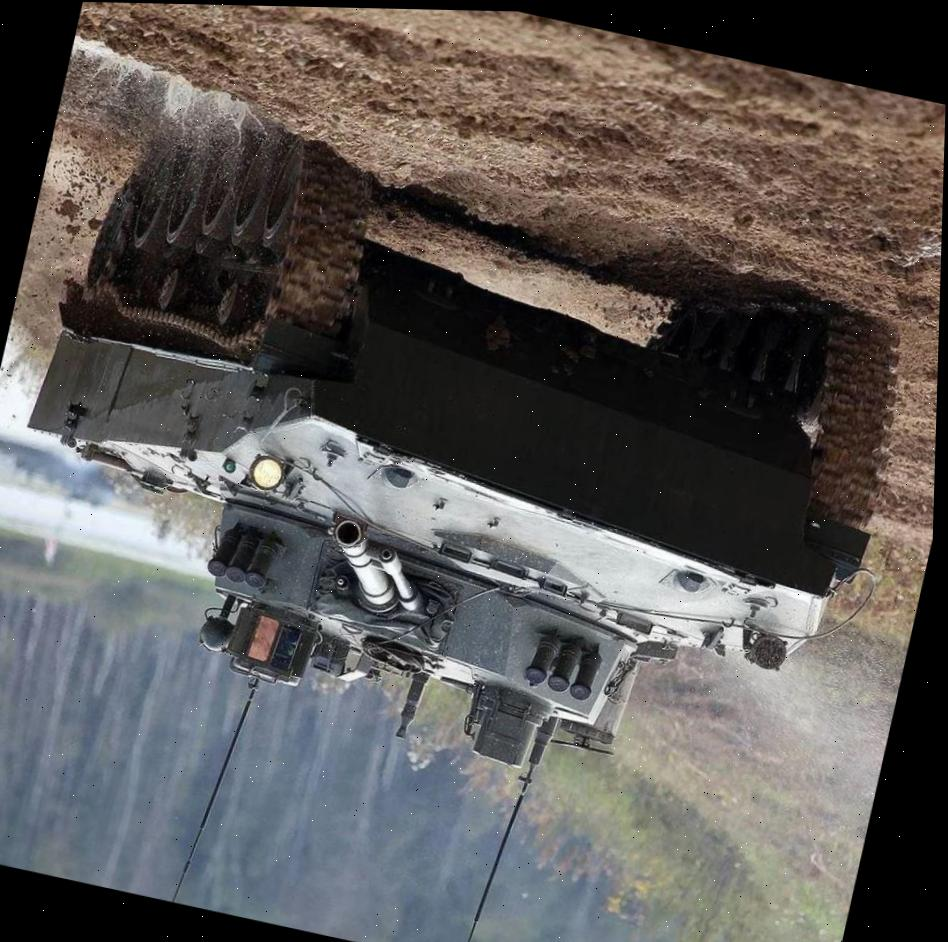tank: (0, 86, 945, 839)
